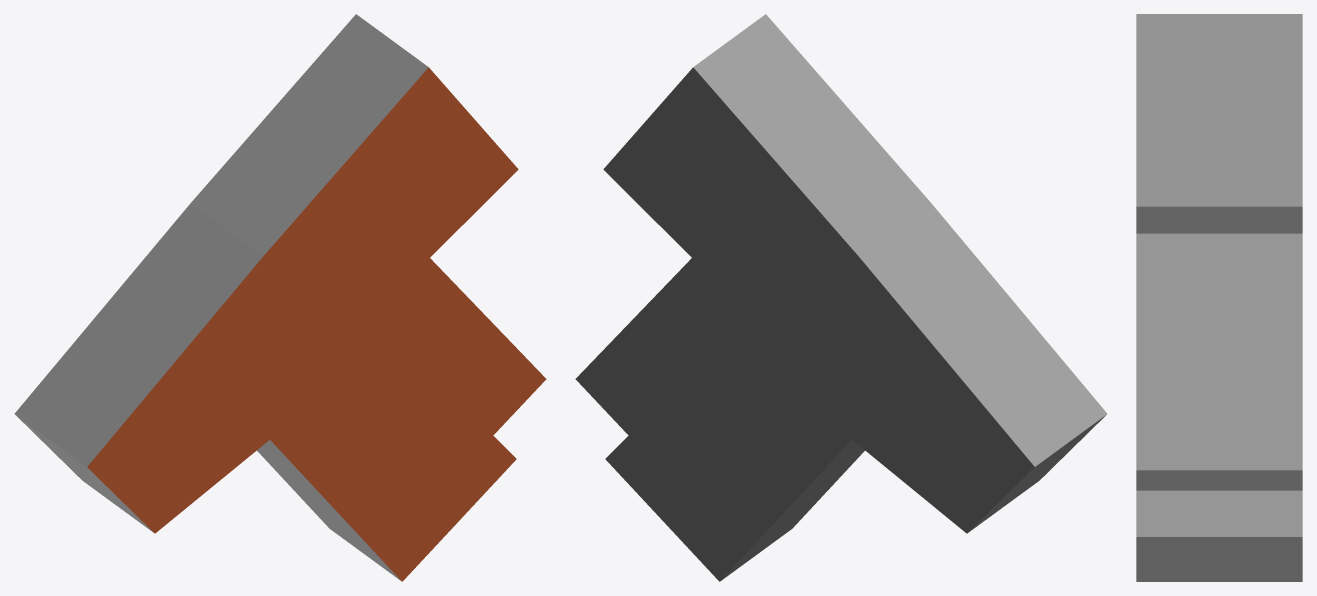
The model's file is construction_6320_assumed_A_Casa_h6m.obj.
The picture shows the model from 3 angles, left to right: view 1: azimuth 30°, elevation 25°; view 2: azimuth 150°, elevation 25°; view 3: azimuth 270°, elevation 25°; orthographic projection. The views are drawn at different scales.
Parts seen in each view (by area): view 1: construction_6320_assumed_A_Casa; view 2: construction_6320_assumed_A_Casa; view 3: construction_6320_assumed_A_Casa.
Part boxes in pixels (x1,y1,x2,y2): construction_6320_assumed_A_Casa: (14, 14, 546, 581); construction_6320_assumed_A_Casa: (575, 14, 1107, 581); construction_6320_assumed_A_Casa: (1136, 14, 1302, 581).
Bounding box in the file's own units: 21.9 × 23.15 × 6.
